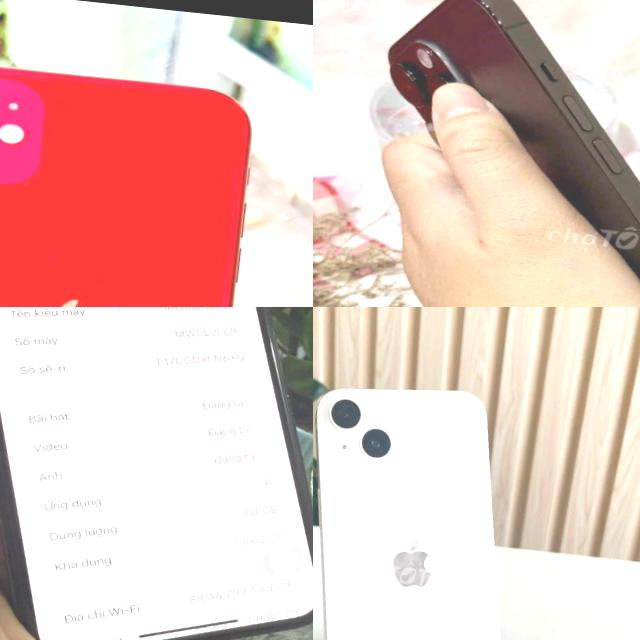gen_11: (0, 307, 313, 640), (0, 44, 269, 307)
gen_14: (331, 0, 640, 307), (313, 367, 543, 640)
